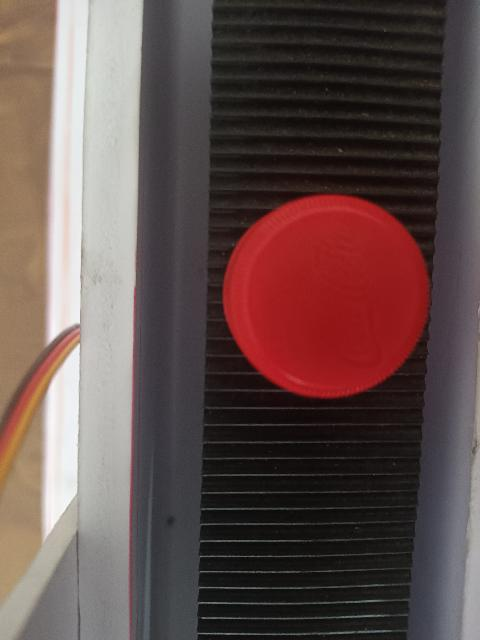bottlecap: (218, 177, 434, 409)
